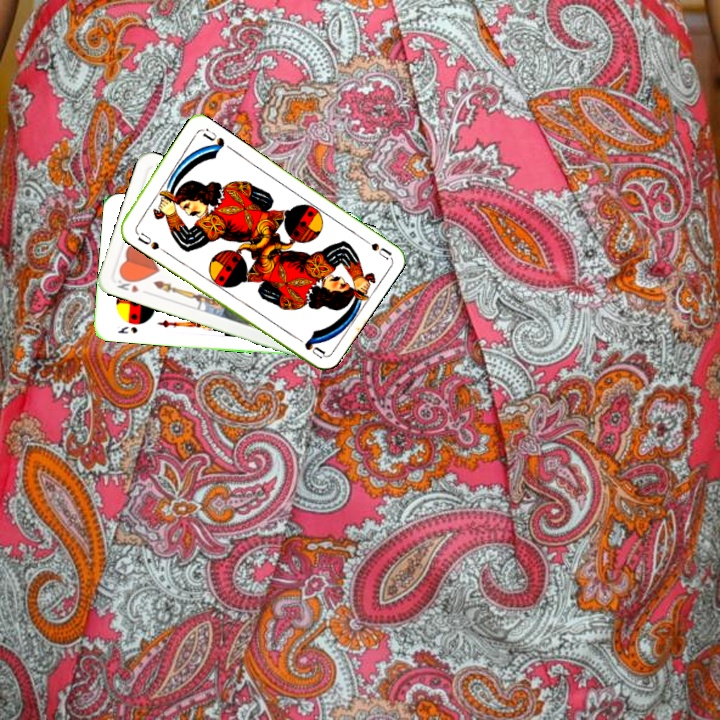HK: (113, 272, 141, 295)
SK: (114, 322, 140, 336)
SU: (355, 232, 393, 262), (131, 226, 162, 253)
